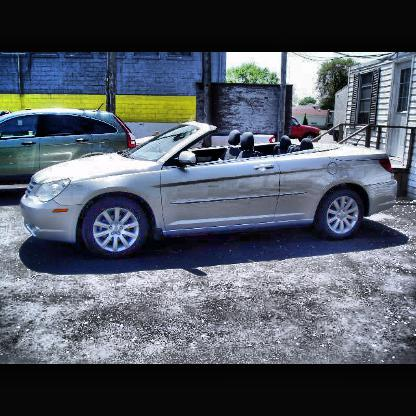Chrysler Sebring Convertible 2010: (21, 120, 401, 259)
